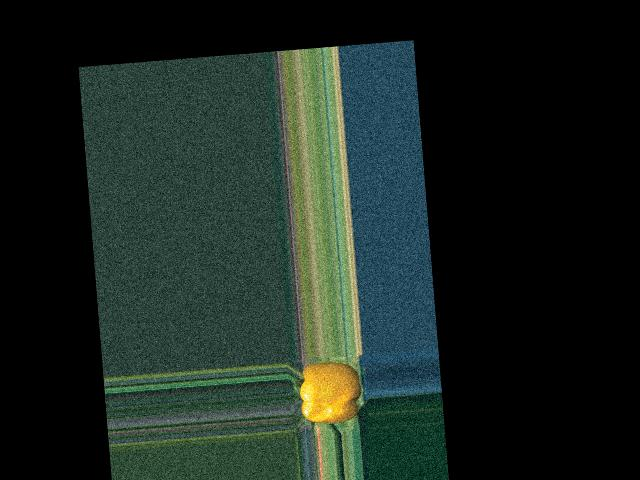bell_pepper: (291, 356, 364, 431)
